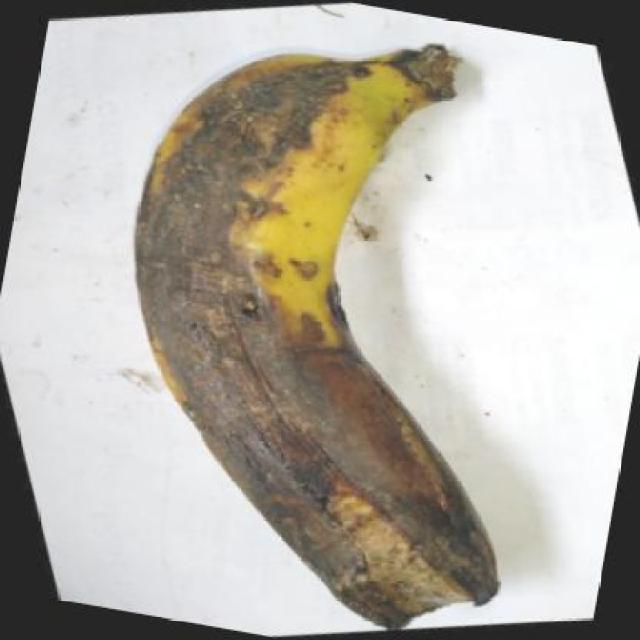Rotten: (112, 23, 564, 639)
